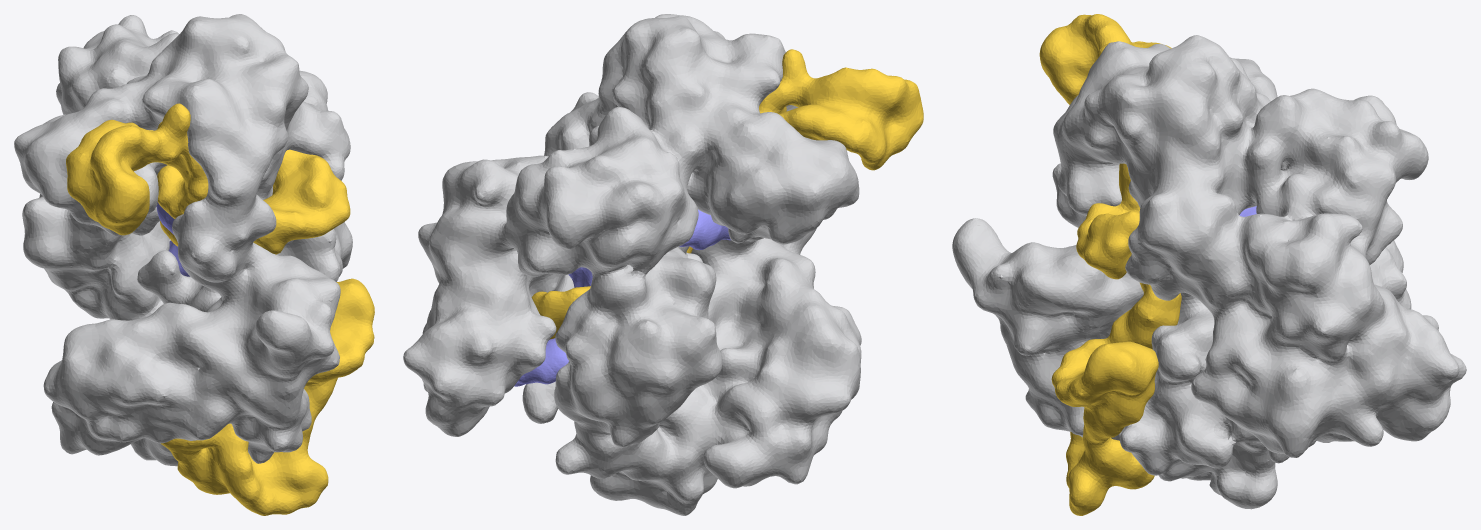
The model's file is cas9.glb.
3 renders of one model, left to right at view 1: azimuth 30°, elevation 25°; view 2: azimuth 150°, elevation 25°; view 3: azimuth 270°, elevation 25°, orthographic. The views are drawn at different scales.
Parts seen in each view (by area): view 1: Cas9, guide RNA, target DNA; view 2: Cas9, guide RNA, target DNA; view 3: Cas9, guide RNA.
Boxes of the visible parts, bbox=[...] form: Cas9: bbox=[14, 14, 352, 466]; guide RNA: bbox=[66, 103, 374, 515]; target DNA: bbox=[156, 202, 189, 276]; Cas9: bbox=[403, 14, 861, 515]; guide RNA: bbox=[531, 49, 923, 339]; target DNA: bbox=[514, 209, 730, 386]; Cas9: bbox=[952, 35, 1466, 509]; guide RNA: bbox=[1039, 14, 1181, 515].
Size of the model in its own units: 95.12 by 114 by 116.
